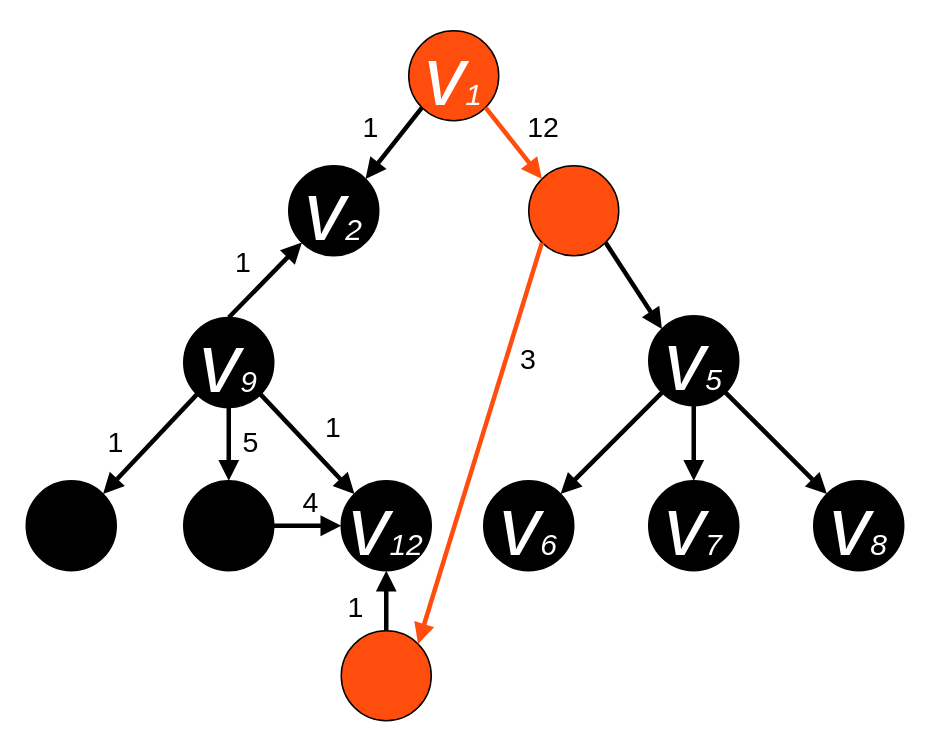
This 930x750 diagram has some shape labels left out. Here are the shapes that lost their labels. From the top down, the box of each, then its label:
(527, 164, 619, 256): v 3
(25, 479, 116, 571): v 10
(182, 479, 274, 571): v 11
(340, 629, 431, 721): v 4
